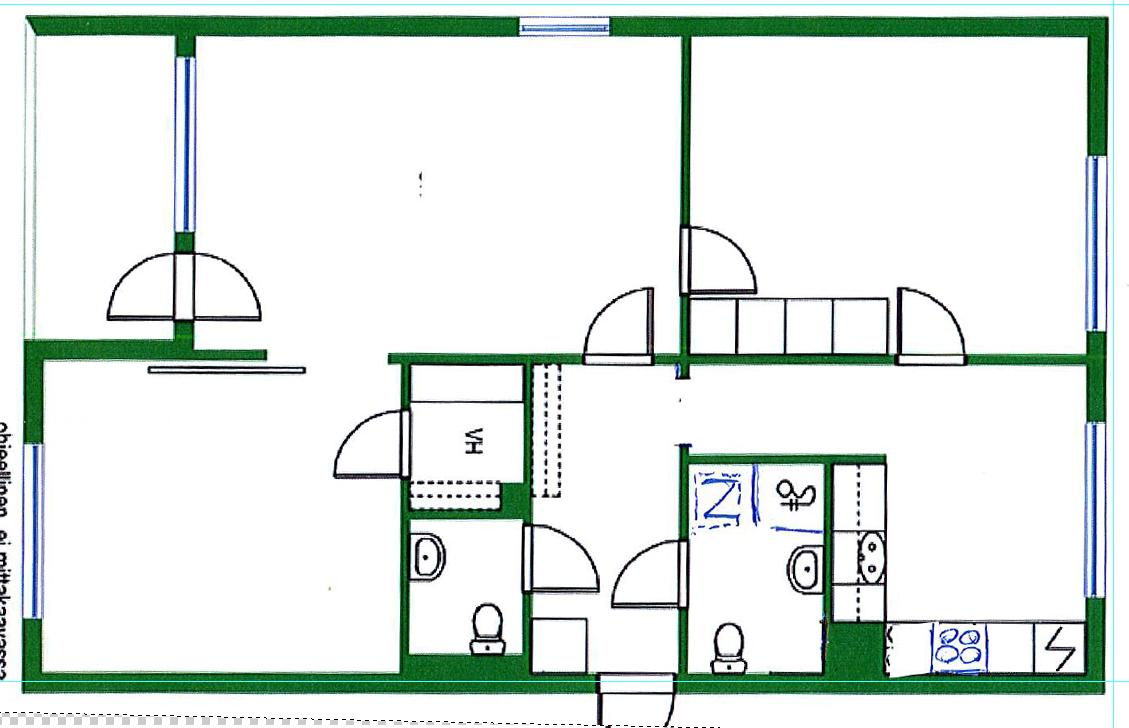bathroom: (688, 462, 824, 676), (409, 520, 522, 659)
door: (574, 282, 660, 374), (331, 403, 419, 485), (180, 250, 267, 332), (517, 521, 604, 600), (607, 536, 694, 612), (104, 250, 188, 326), (675, 223, 760, 298), (894, 283, 969, 367), (593, 672, 682, 724)
perimeter: (29, 12, 1104, 690)
window: (1080, 410, 1113, 610), (18, 434, 50, 628), (1082, 145, 1111, 341), (170, 50, 200, 237), (510, 12, 621, 40)
